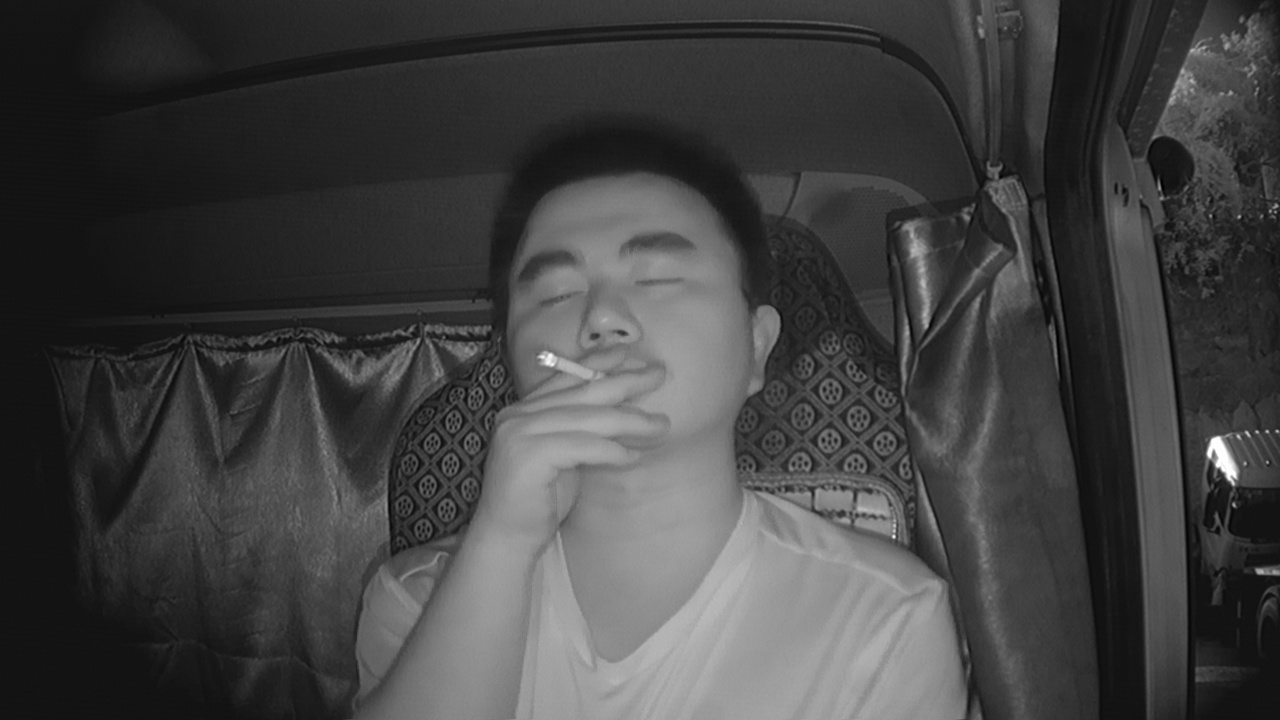hand: (489, 336, 667, 539)
